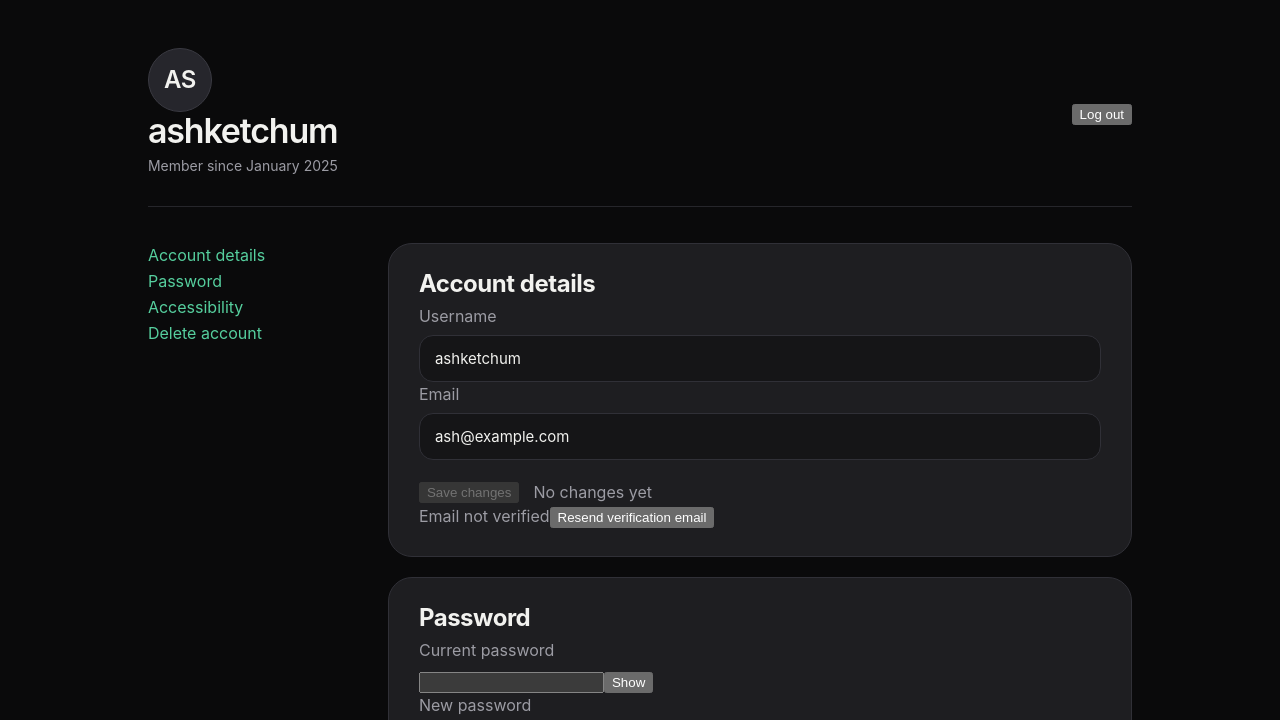
Test: Profile › shows the unverified state and resends the verification email on click
Expected: the text "Email not verified" is shown, [419,506,550,526]
What coordinates should you click on to do the following:
click the button "Resend verification email"
I would click on:
 (632, 518)
Its box is [550,507,714,528].
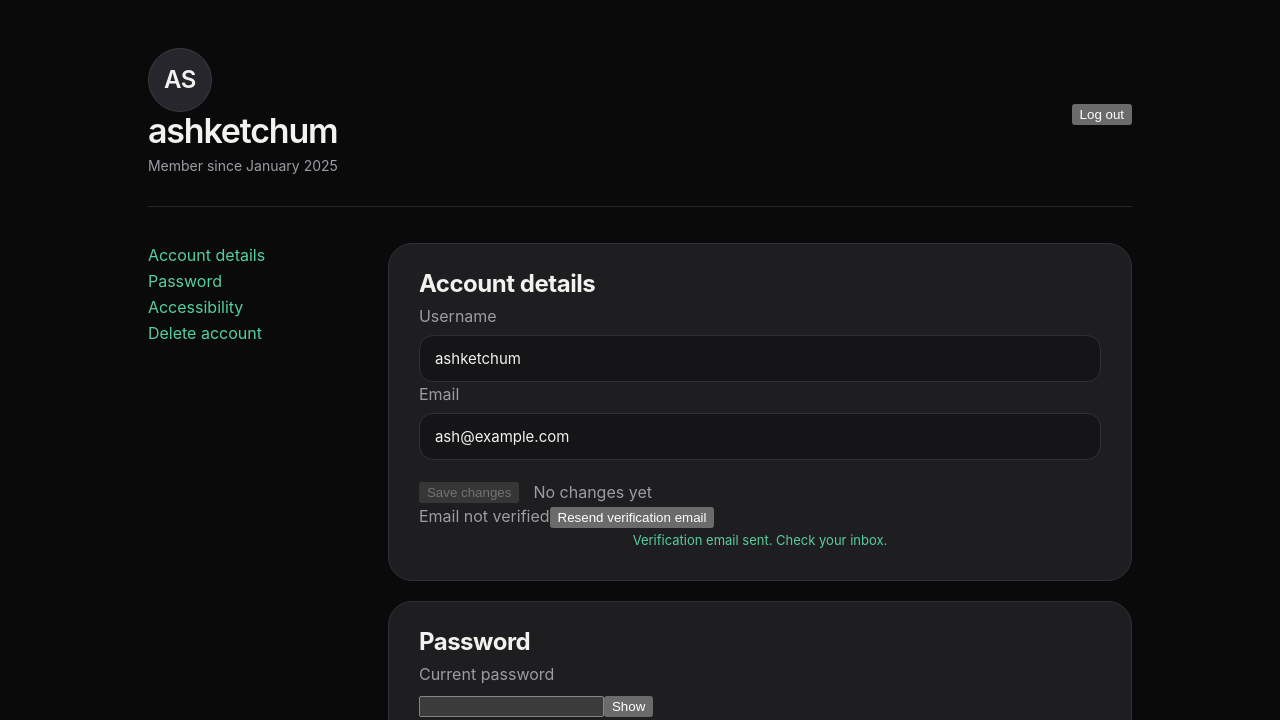
Now the text "Verification email sent. Check your inbox." is shown, box [633,532,887,548]
